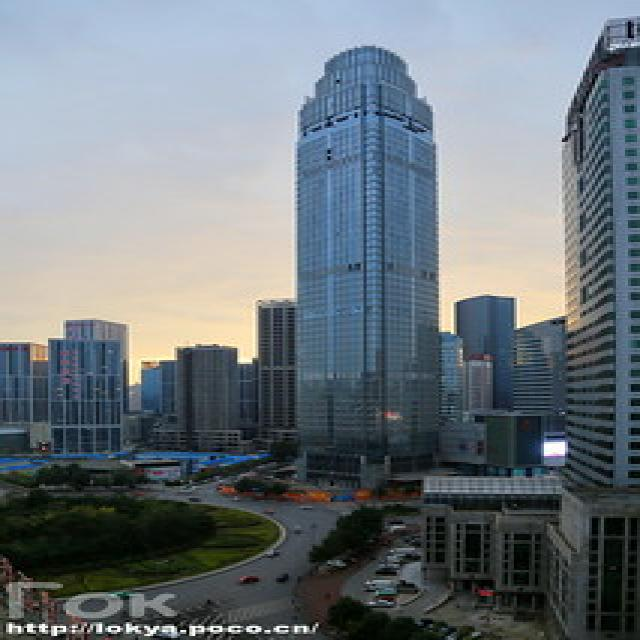Normal_building: (287, 40, 449, 468)
